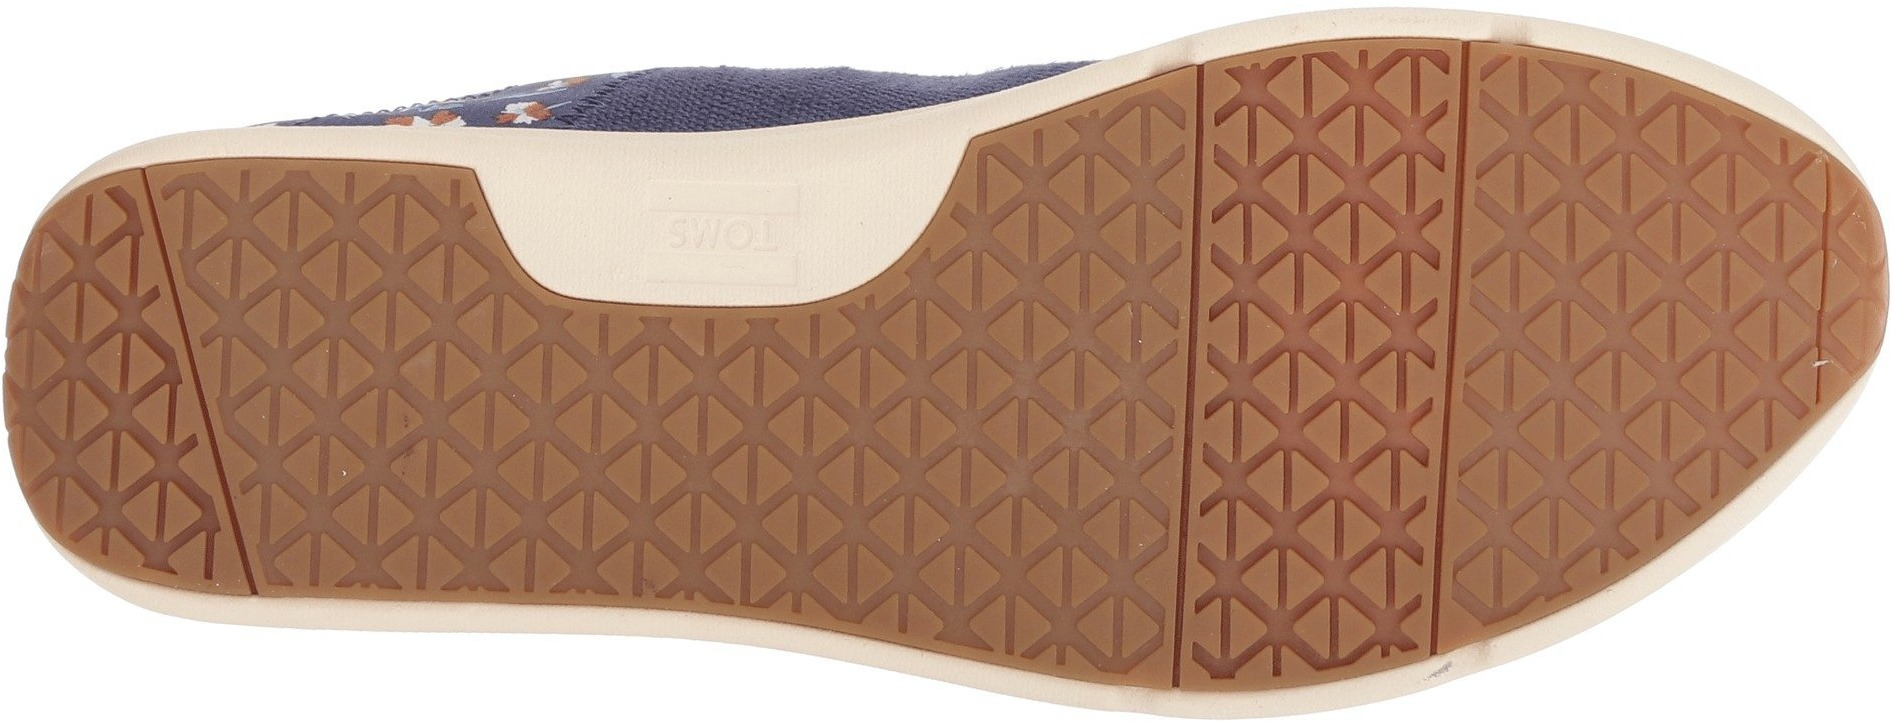circle: (624, 170, 857, 289)
text: (624, 170, 857, 289)
triangle: (1018, 159, 1503, 590), (446, 324, 959, 596), (1420, 135, 1798, 435), (51, 240, 431, 532), (1518, 446, 1651, 559)
